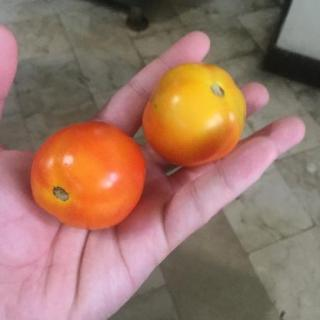Tomat: (14, 117, 150, 243), (143, 56, 257, 172)
